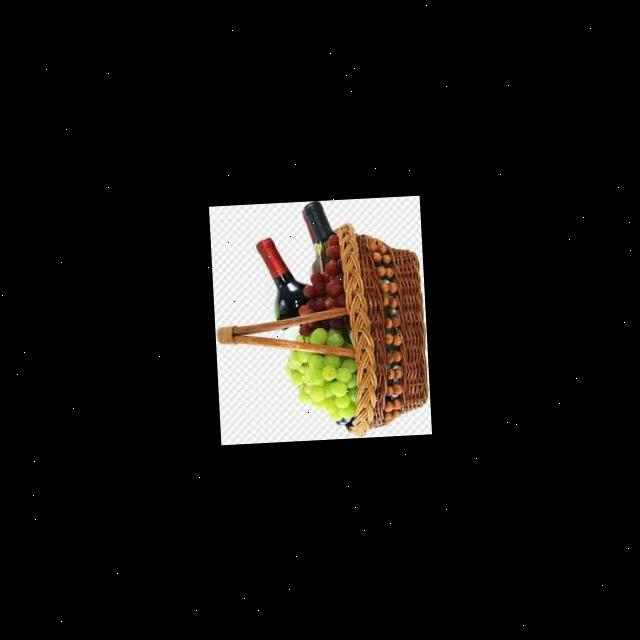grape: (276, 328, 361, 424)
